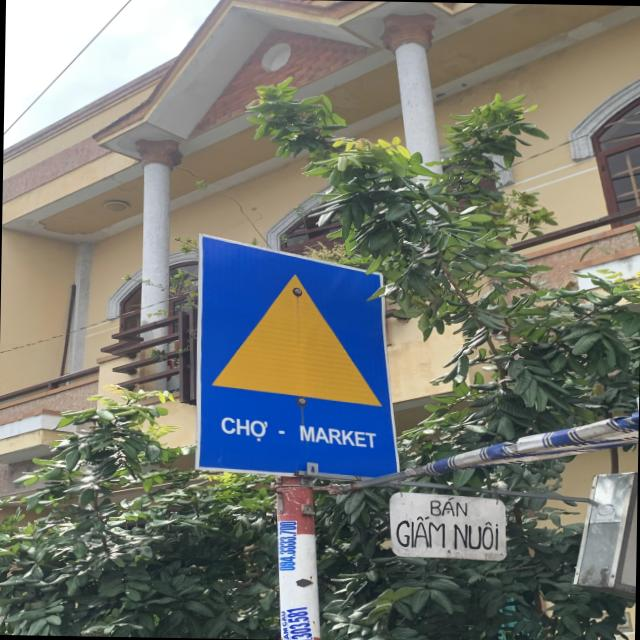Cho_Quay_Xe: (196, 237, 402, 478)
